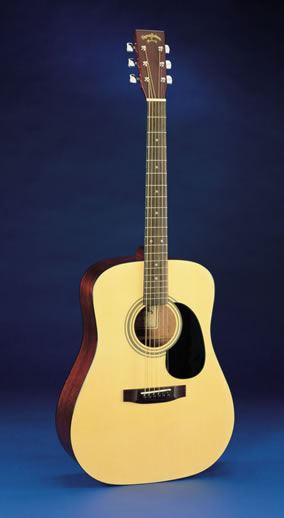guitar: (54, 28, 236, 488)
